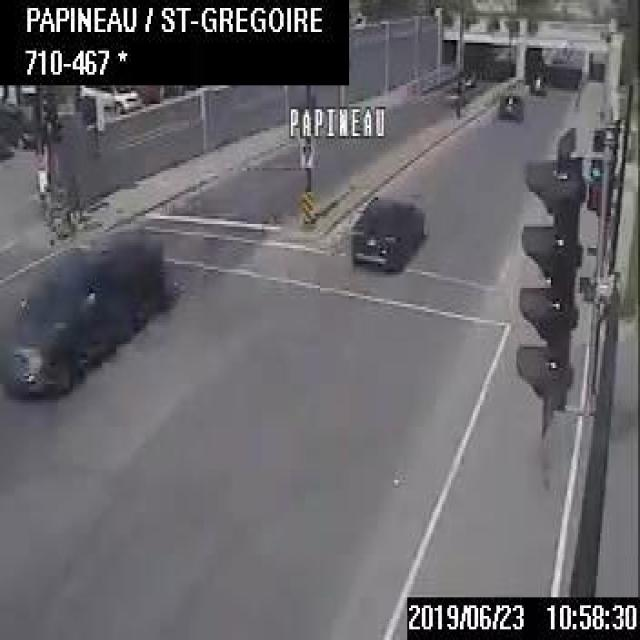cyclist: (48, 165, 96, 235)
vehicle: (2, 232, 173, 400), (346, 192, 428, 272), (0, 102, 42, 150), (100, 84, 141, 112), (498, 86, 518, 118), (528, 64, 546, 96), (456, 66, 474, 85)
